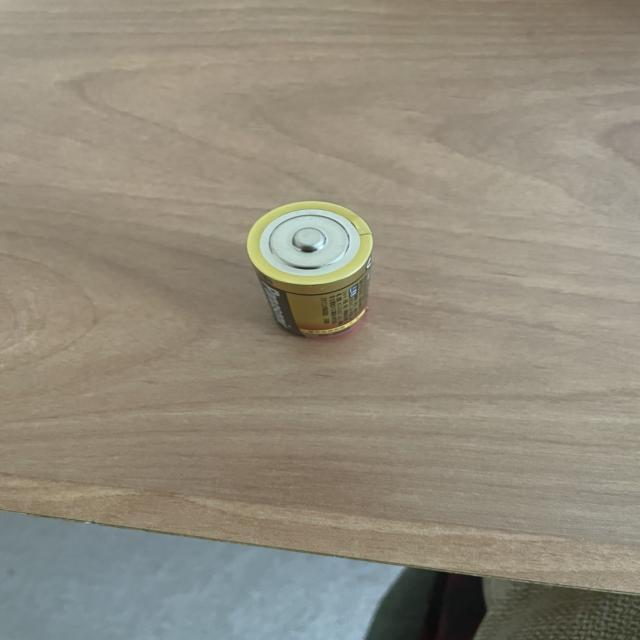hazardous waste: (242, 194, 378, 354)
